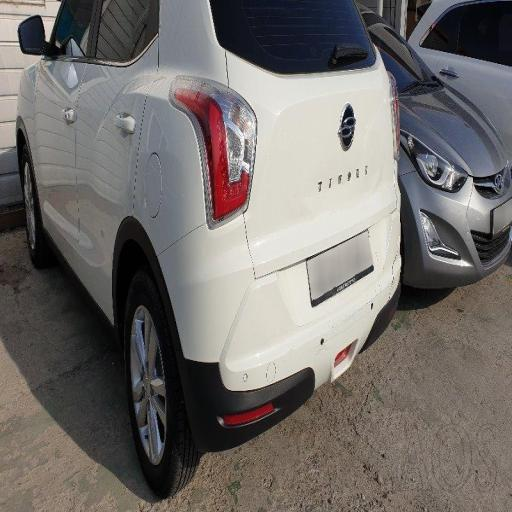scratch: (64, 52, 240, 244)
